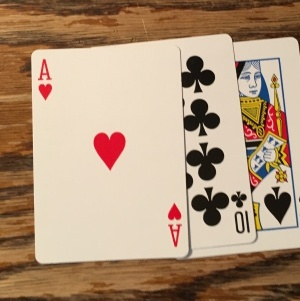card: (30, 43, 190, 258), (180, 35, 249, 256)
